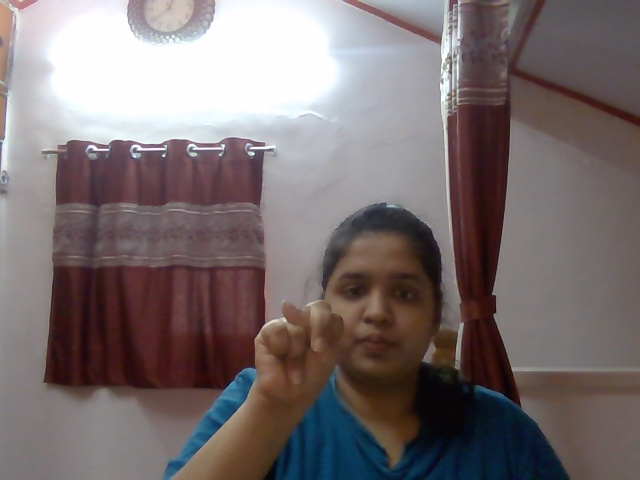n: (241, 290, 353, 416)
